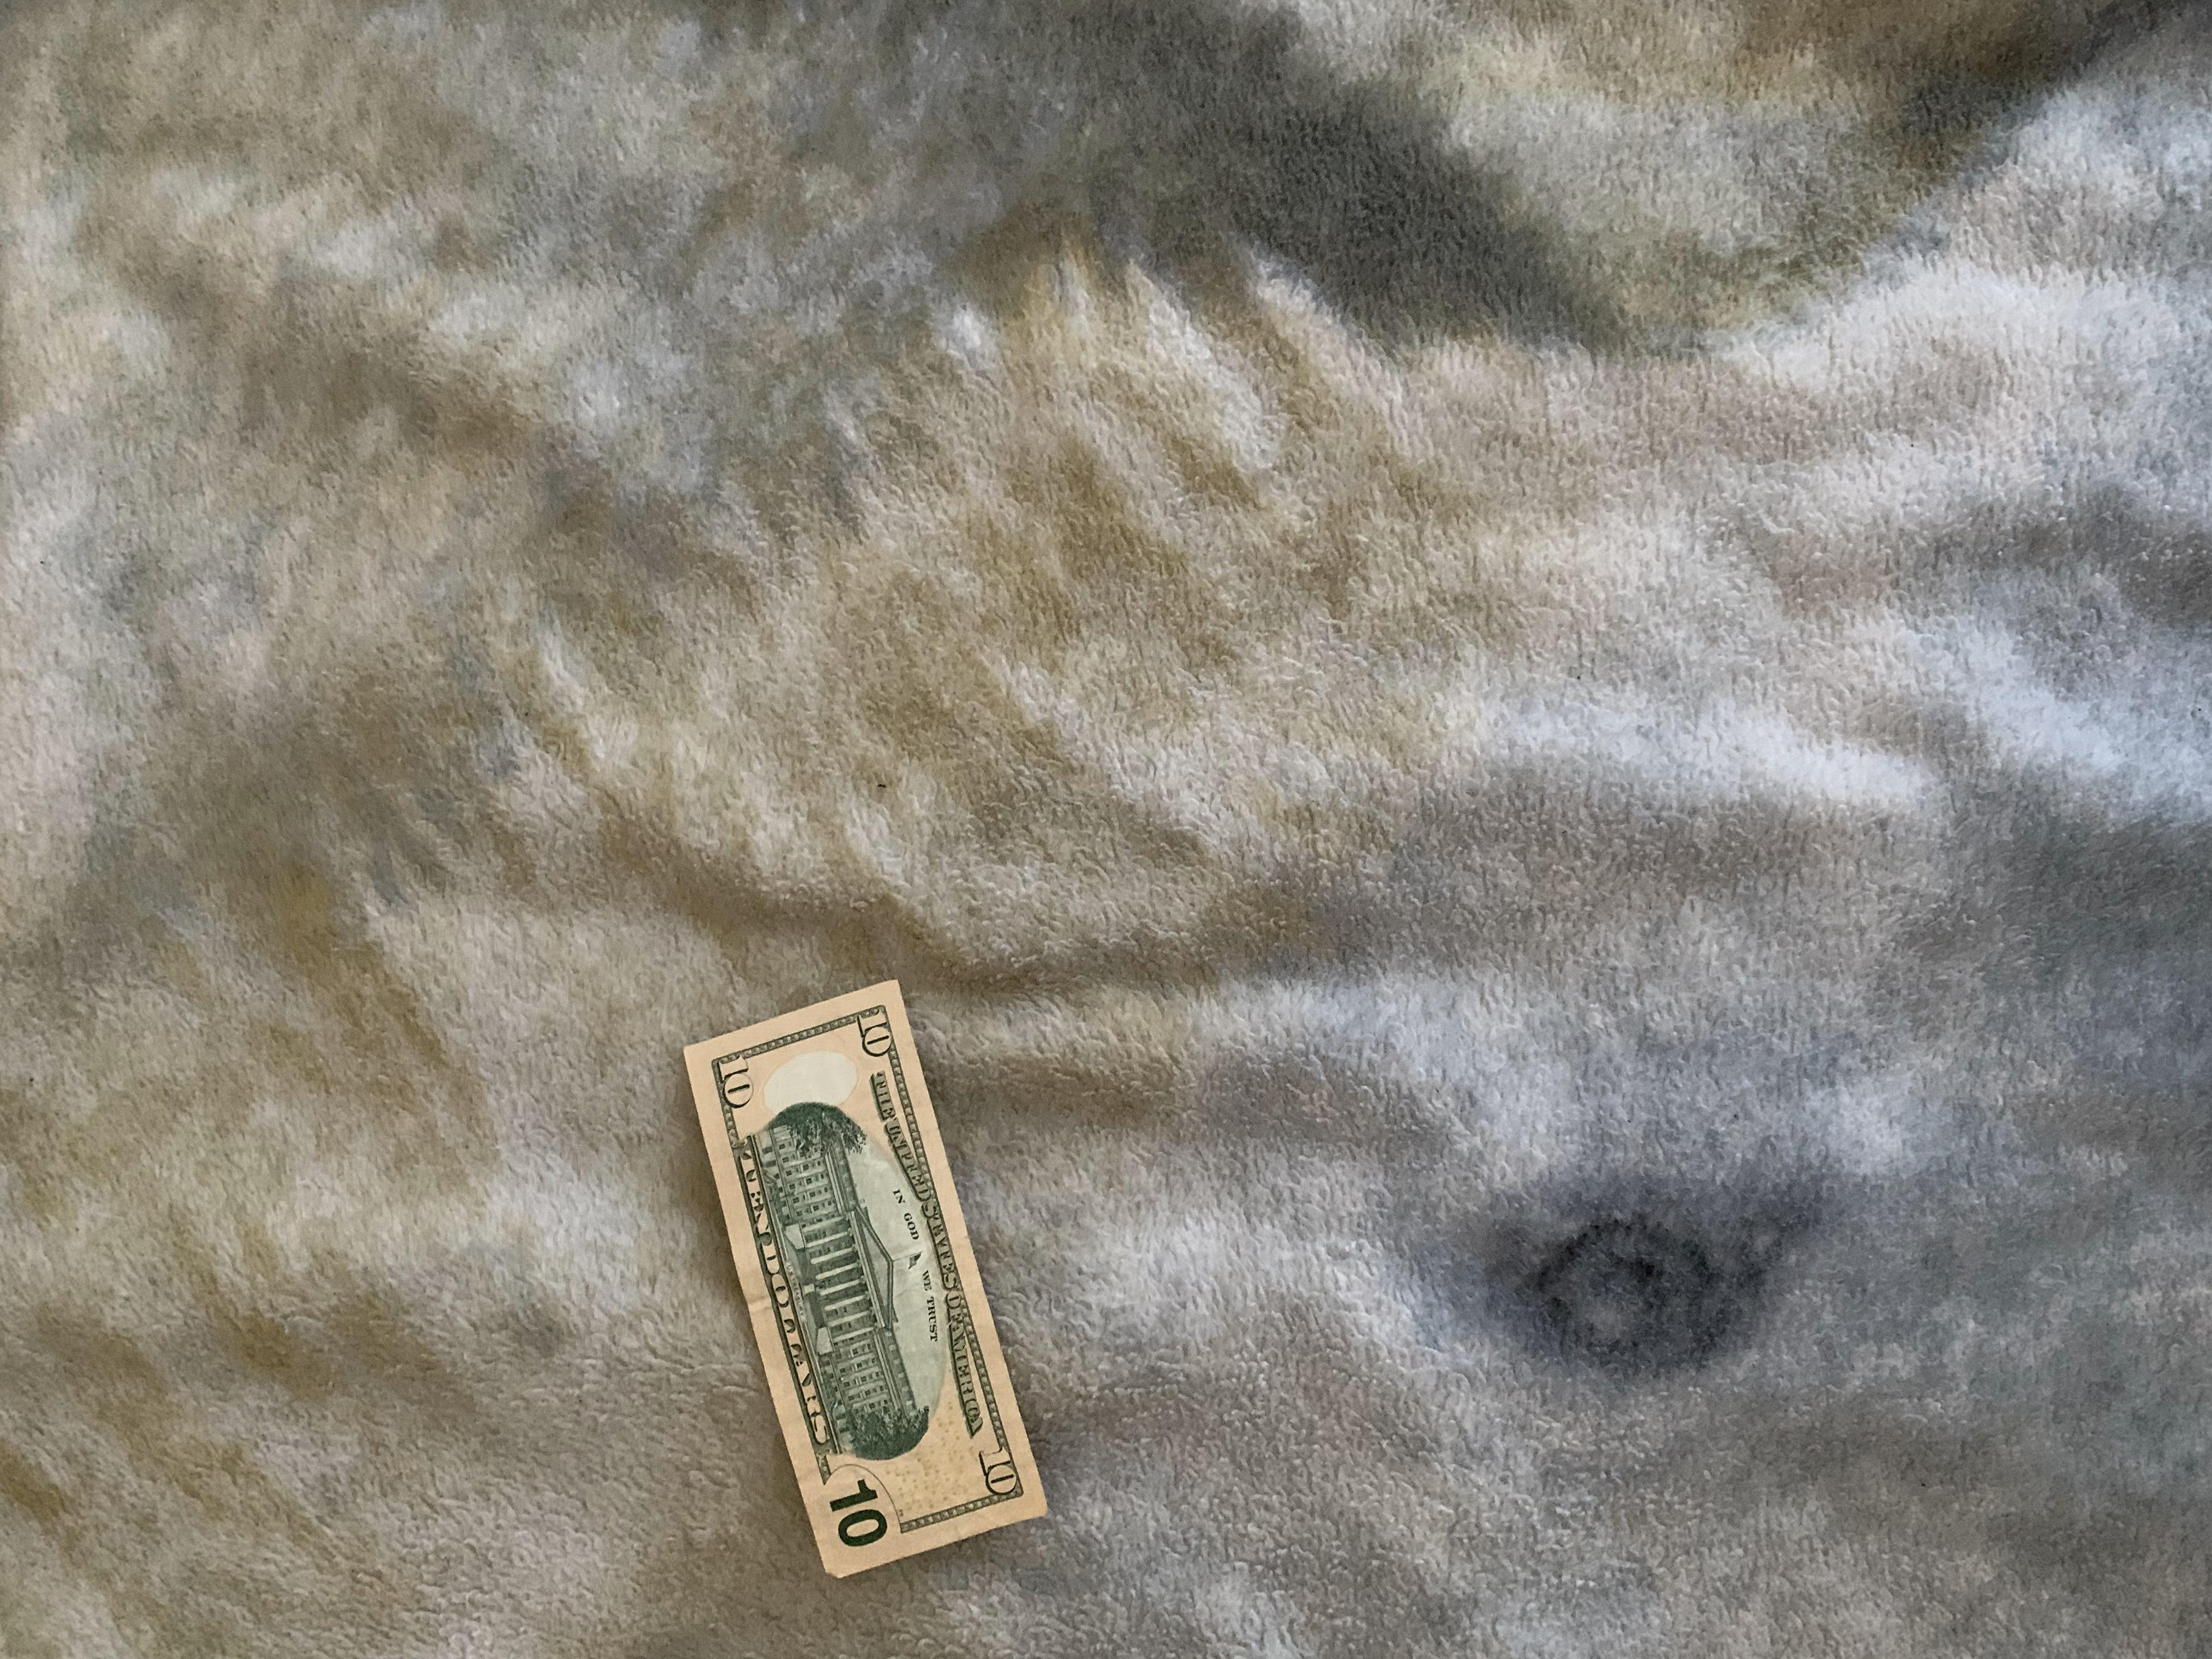TenBill: (681, 969, 1052, 1584)
